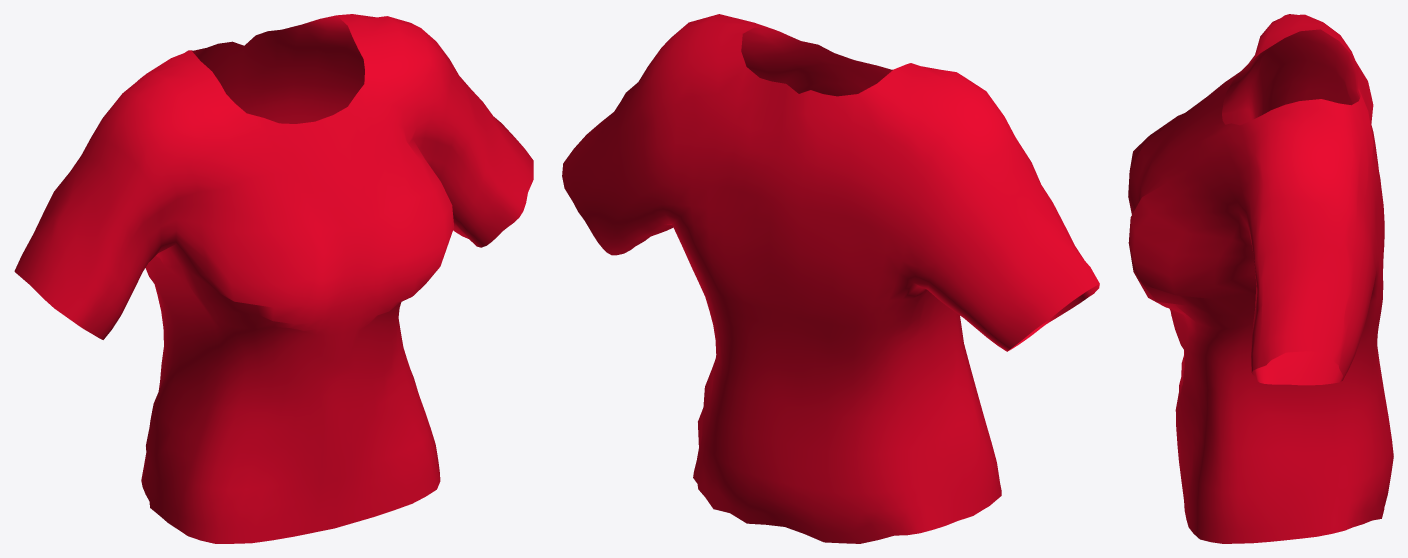
The model's file is T-Shirt.glb.
The picture shows the model from 3 angles, left to right: view 1: azimuth 30°, elevation 25°; view 2: azimuth 150°, elevation 25°; view 3: azimuth 270°, elevation 25°; orthographic projection. The views are drawn at different scales.
Parts seen in each view (by area): view 1: Shirt; view 2: Shirt; view 3: Shirt.
Part boxes in pixels (box(x1,y1,x2,y2)): Shirt: box(14, 14, 533, 543); Shirt: box(562, 14, 1099, 543); Shirt: box(1128, 14, 1393, 543).
Bounding box in the file's own units: 0.6857 × 0.5743 × 0.3223.
